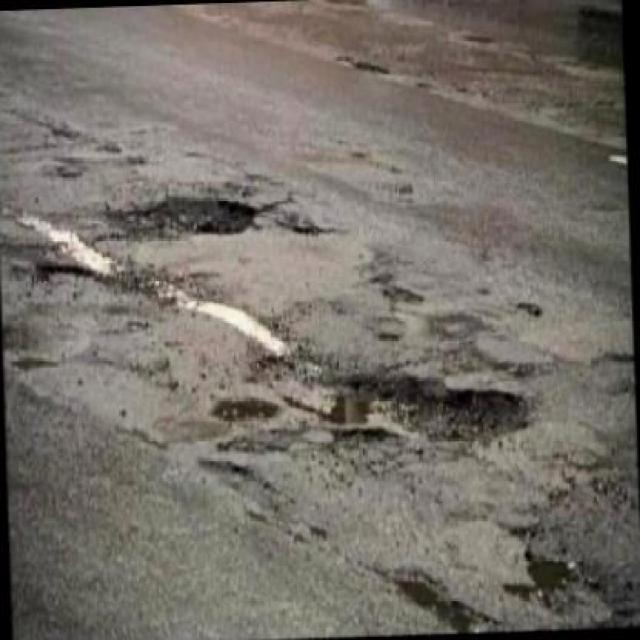Pothole: (285, 375, 528, 440), (102, 197, 257, 243)
